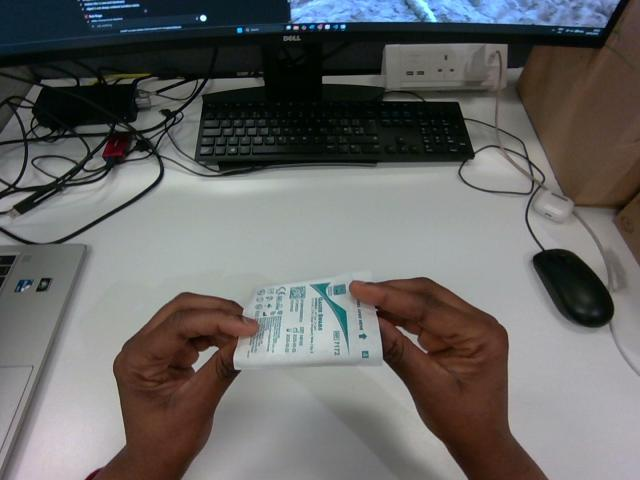gauze: (234, 274, 381, 369)
